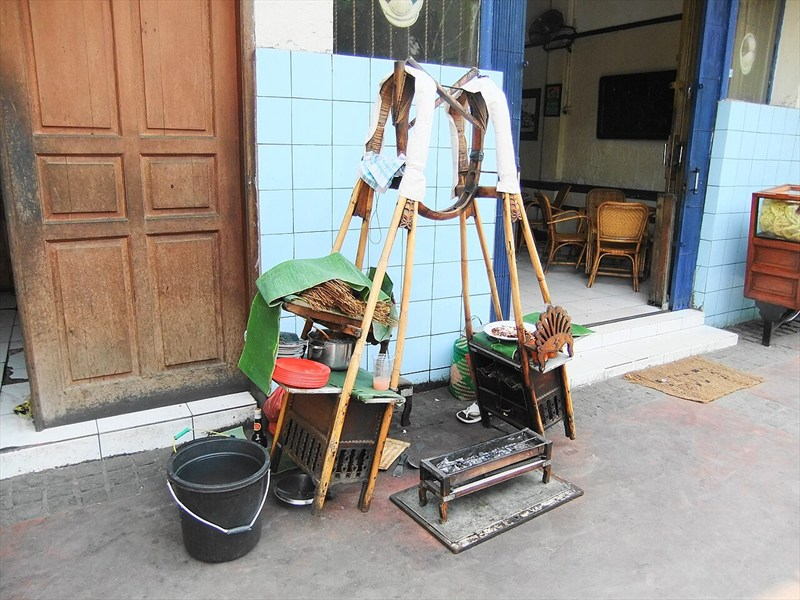Sate Ayam: (202, 54, 723, 506)
